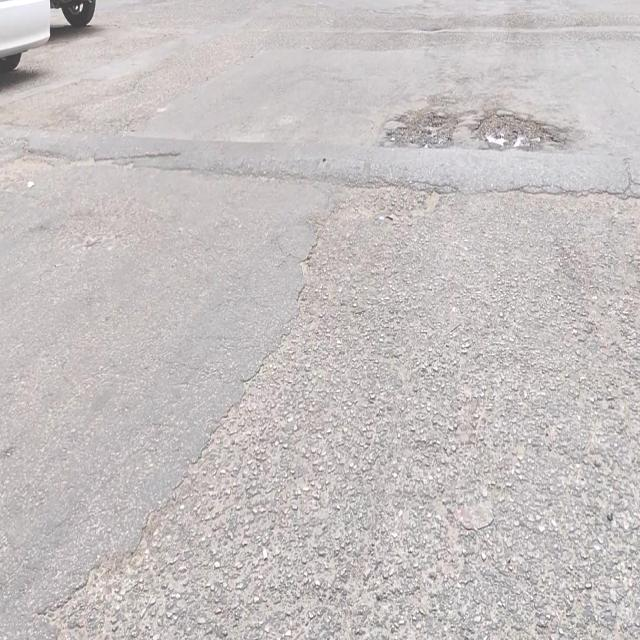Potholes: (470, 108, 555, 154), (383, 102, 458, 148)
